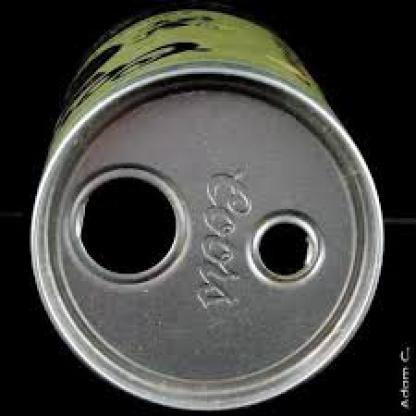METAL: (30, 7, 379, 407)
